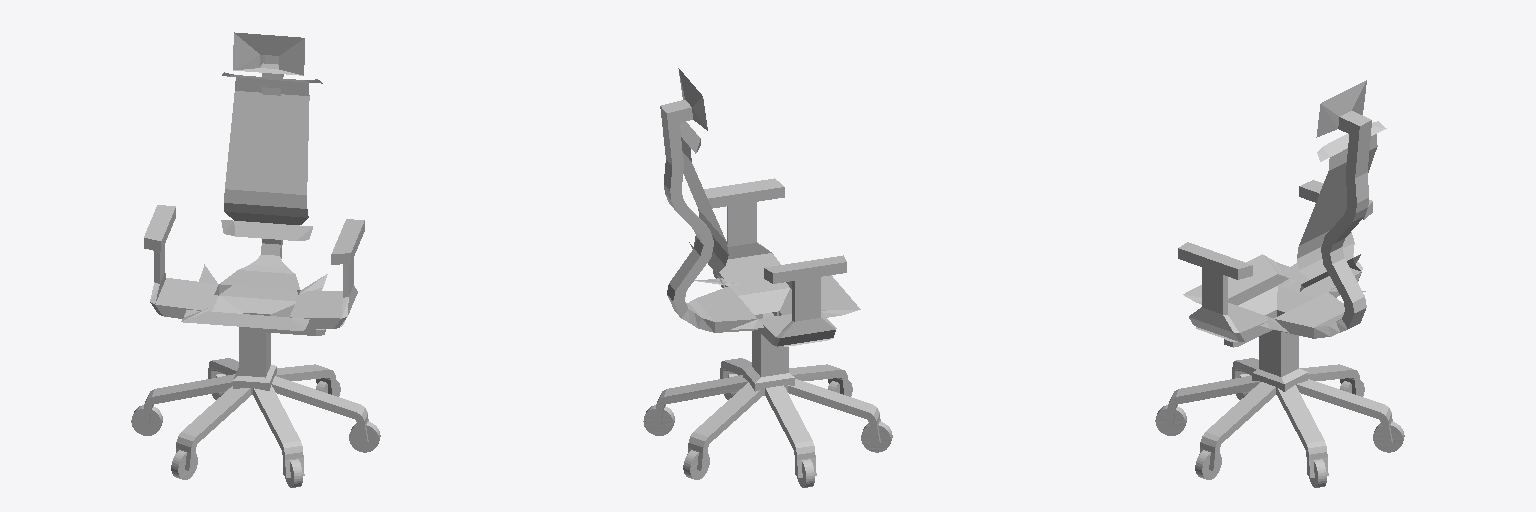
The model's file is pcmesh2.obj.
3 views of the same model, side by side, from view 1: azimuth 30°, elevation 25°; view 2: azimuth 150°, elevation 25°; view 3: azimuth 270°, elevation 25° (orthographic).
Parts seen in each view (by area): view 1: model_11; view 2: model_11; view 3: model_11.
Part boxes in pixels (left/top/right/bottom): model_11: left=131, top=32, right=380, bottom=487; model_11: left=643, top=68, right=892, bottom=487; model_11: left=1155, top=80, right=1404, bottom=487.
Size of the model in its own units: 2.43 by 4.16 by 2.52.